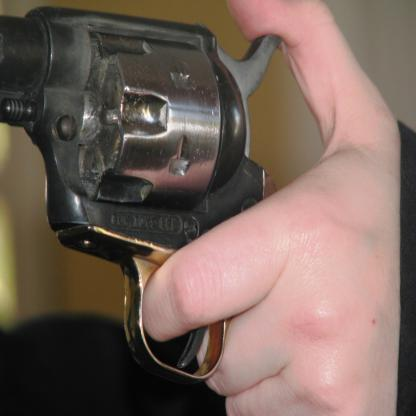Handgun: (0, 6, 282, 384)
